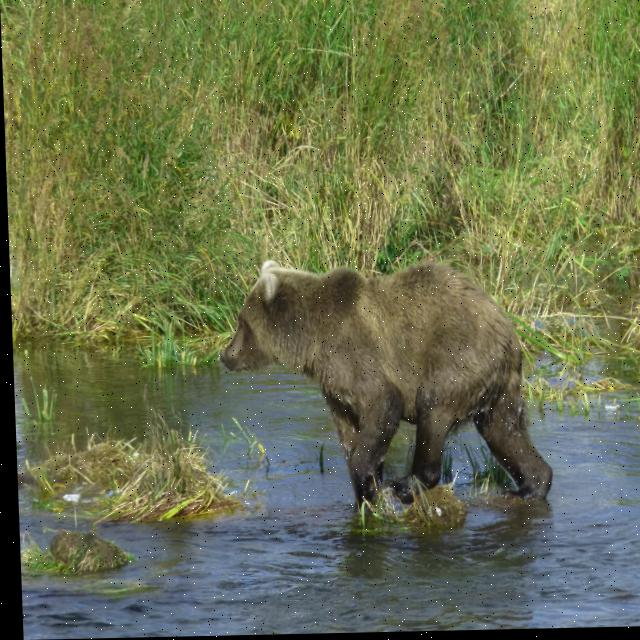bear face: (213, 256, 548, 506)
